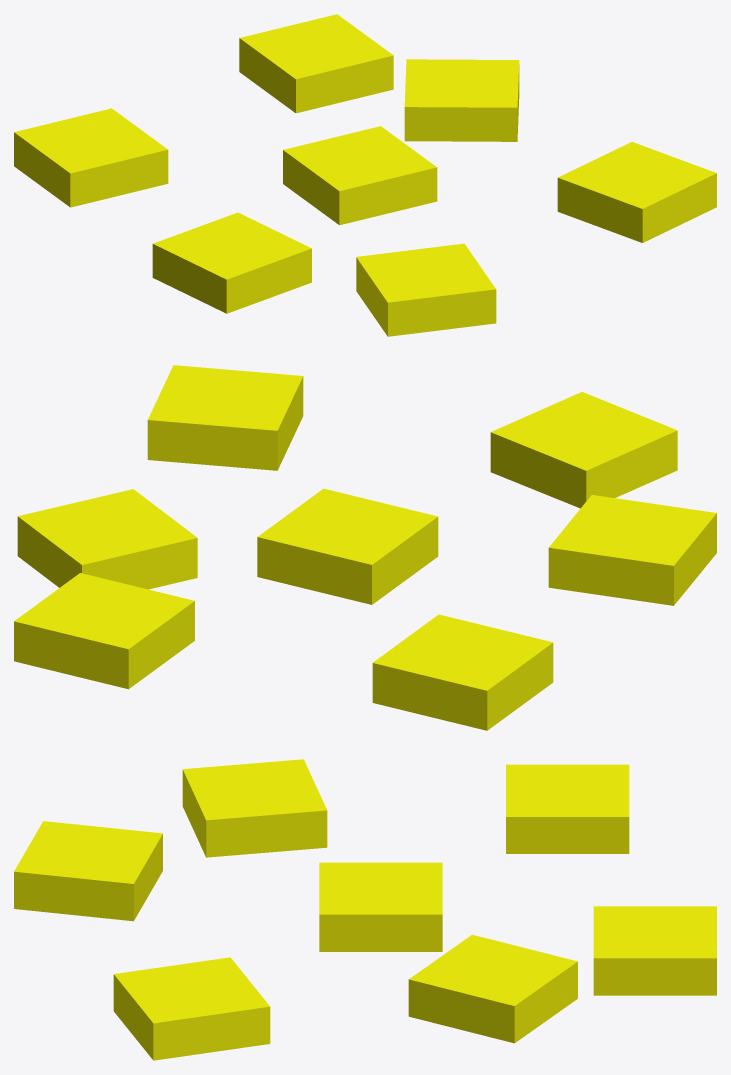
Rendered from Coins.obj.
3 views of the same model, one above another, from view 1: azimuth 30°, elevation 25°; view 2: azimuth 150°, elevation 25°; view 3: azimuth 270°, elevation 25° (orthographic). The views are drawn at different scales.
Visible parts, largest first — view 1: Coins_立方体.002; view 2: Coins_立方体.002; view 3: Coins_立方体.002.
Boxes of the visible parts, <box> form: Coins_立方体.002: <box>14,14,716,336</box>; Coins_立方体.002: <box>14,365,716,730</box>; Coins_立方体.002: <box>14,759,716,1060</box>.
Size of the model in its own units: 1.52 by 0.1 by 1.71.
Materials: 1 (1 with a texture image).
